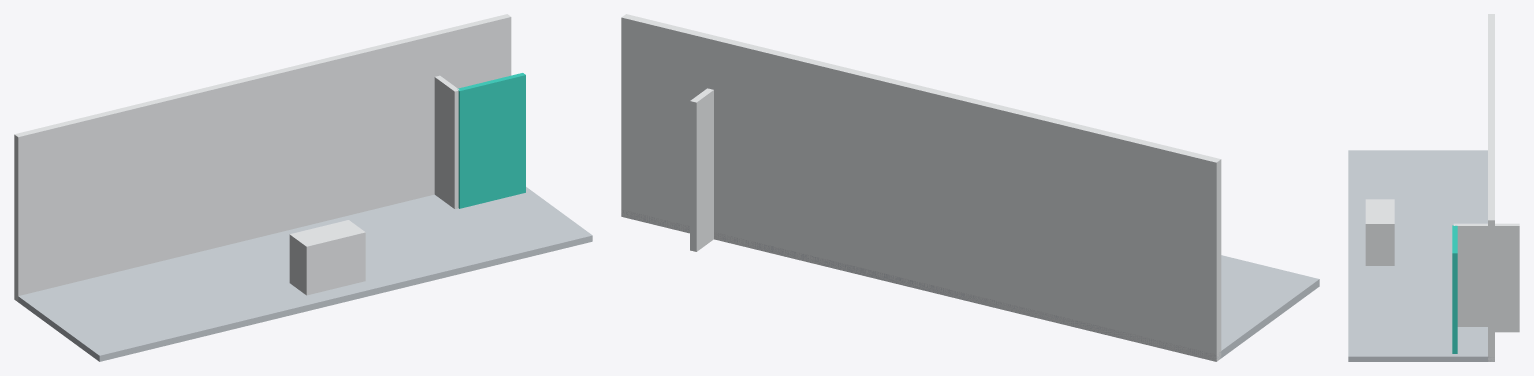
The picture shows the model from 3 angles, left to right: view 1: azimuth 30°, elevation 25°; view 2: azimuth 150°, elevation 25°; view 3: azimuth 270°, elevation 25°; orthographic projection. The views are drawn at different scales.
Parts seen in each view (by area): view 1: Exhibition Booth Concept; view 2: Exhibition Booth Concept; view 3: Exhibition Booth Concept.
Boxes of the visible parts, x1,y1,x2,y2 form: Exhibition Booth Concept: (14, 14, 592, 361); Exhibition Booth Concept: (621, 14, 1319, 361); Exhibition Booth Concept: (1348, 14, 1519, 361).
Size of the model in its own units: 10 by 3.2 by 3.51.
